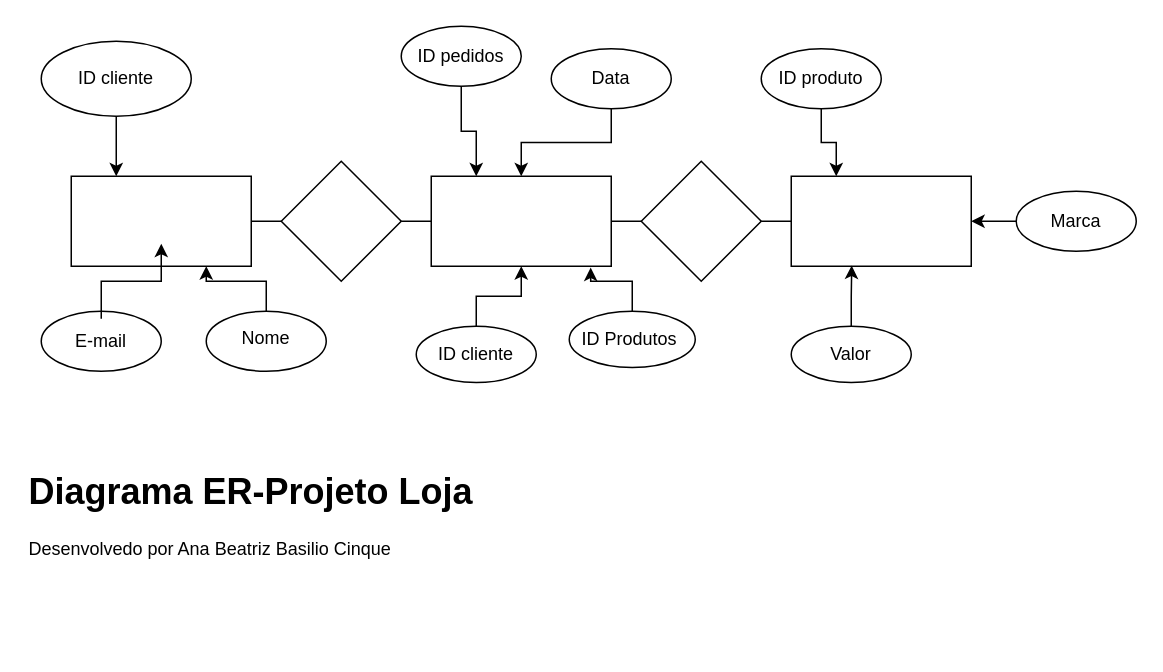
Some shapes in this 1163 by 672 pixel diagram are drawn without their labels. The shapes that lost their labels are listed below. From the top down, each one's centre as x and y in pixels, then its label:
At point 160,220: "Clientes".
At point 520,220: "pedido".
At point 880,220: "Produtos".
